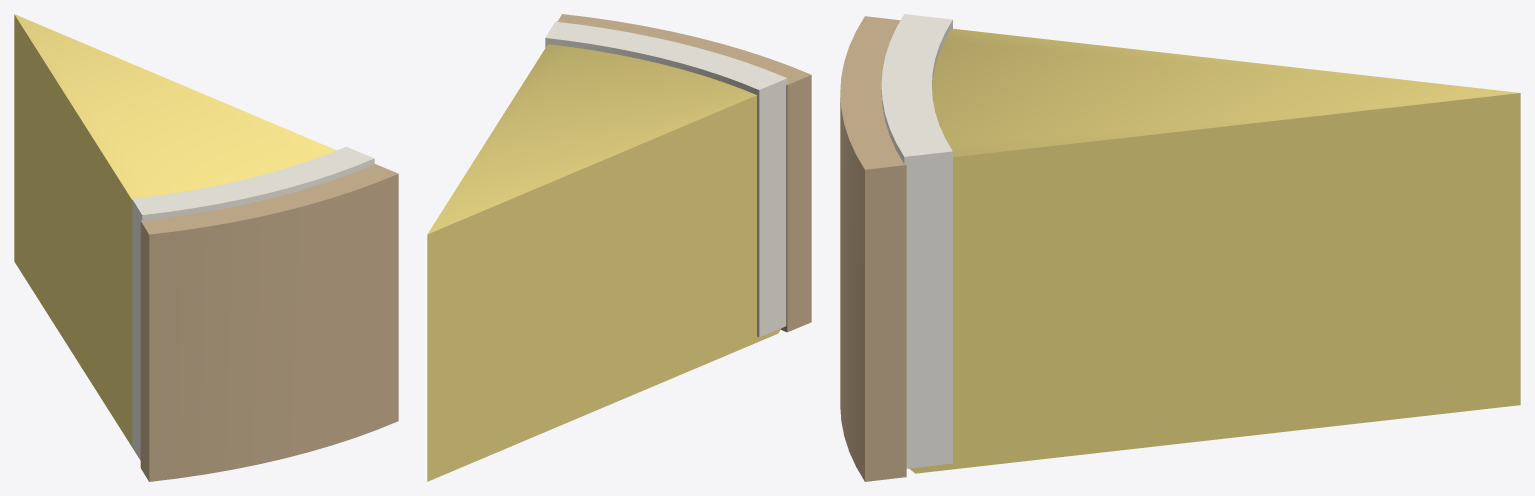
Rendered from fresh-produce-and-groceries-cheese-wedge-0b874b31__24397.glb.
The picture shows the model from 3 angles, left to right: view 1: azimuth 30°, elevation 25°; view 2: azimuth 150°, elevation 25°; view 3: azimuth 270°, elevation 25°; orthographic projection. The views are drawn at different scales.
Parts seen in each view (by area): view 1: cheese-wedge; view 2: cheese-wedge; view 3: cheese-wedge.
Part boxes in pixels (x1=…): cheese-wedge: x1=14, y1=14, x2=398, y2=481; cheese-wedge: x1=427, y1=14, x2=811, y2=481; cheese-wedge: x1=840, y1=14, x2=1520, y2=481.
Size of the model in its own units: 0.0528 by 0.0512 by 0.0988.
